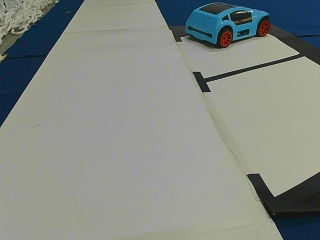car: (184, 4, 270, 47)
